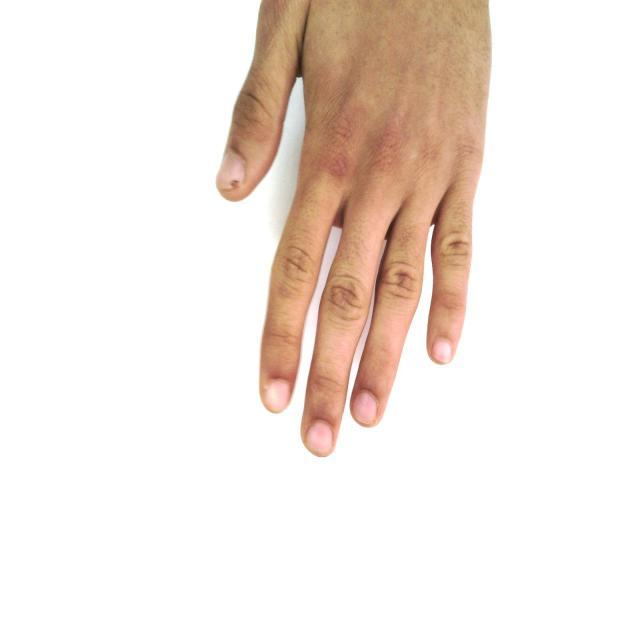Fingernail: (217, 152, 244, 191), (307, 423, 332, 455), (265, 381, 290, 411), (354, 392, 377, 423), (434, 340, 451, 362)
